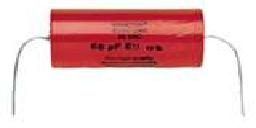Electrolytic-Capacitor: (35, 5, 210, 82)
